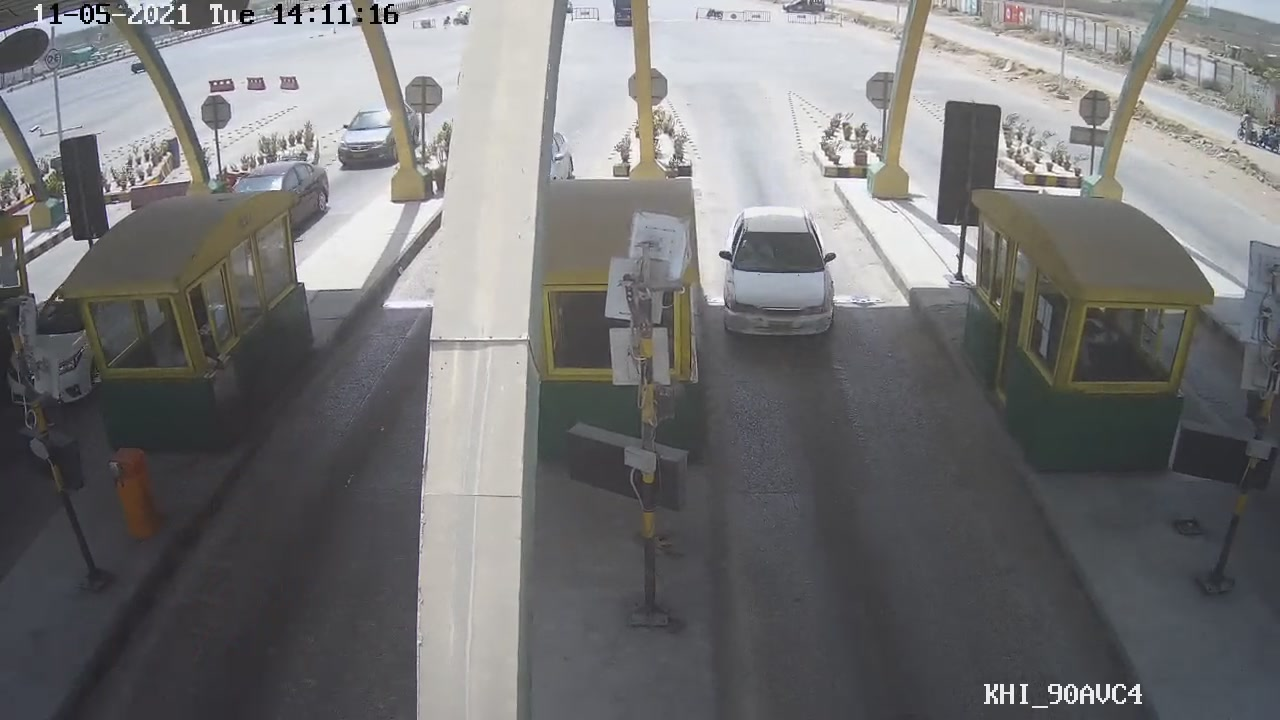F1: (710, 200, 839, 338)
